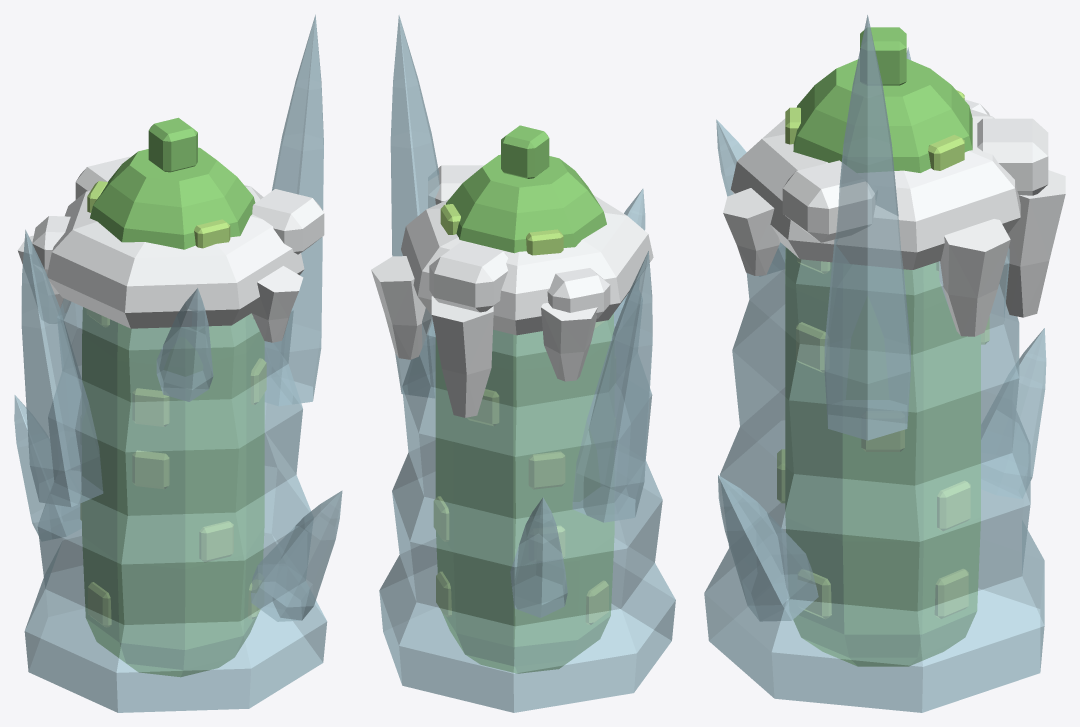
Rendered from SnowFrozenCucumber.fbx.
The picture shows the model from 3 angles, left to right: view 1: azimuth 30°, elevation 25°; view 2: azimuth 150°, elevation 25°; view 3: azimuth 270°, elevation 25°; orthographic projection. The views are drawn at different scales.
Parts seen in each view (by area): view 1: SnowFrozenCucumber.Ice, SnowFrozenCucumber.Body, SnowFrozenCucumber.Snow, SnowFrozenCucumber.Studs; view 2: SnowFrozenCucumber.Ice, SnowFrozenCucumber.Body, SnowFrozenCucumber.Snow, SnowFrozenCucumber.Studs; view 3: SnowFrozenCucumber.Ice, SnowFrozenCucumber.Body, SnowFrozenCucumber.Snow, SnowFrozenCucumber.Studs.
Part boxes in pixels (x1,y1,x2,y2): SnowFrozenCucumber.Ice: (14, 14, 342, 712); SnowFrozenCucumber.Body: (82, 117, 264, 676); SnowFrozenCucumber.Snow: (17, 156, 324, 342); SnowFrozenCucumber.Studs: (80, 181, 266, 627); SnowFrozenCucumber.Ice: (379, 15, 675, 712); SnowFrozenCucumber.Body: (436, 125, 614, 673); SnowFrozenCucumber.Snow: (371, 165, 653, 417); SnowFrozenCucumber.Studs: (434, 204, 608, 624); SnowFrozenCucumber.Ice: (704, 15, 1046, 712); SnowFrozenCucumber.Body: (785, 27, 980, 666); SnowFrozenCucumber.Snow: (723, 99, 1065, 336); SnowFrozenCucumber.Studs: (777, 90, 989, 618).
Bounding box in the file's own units: 2.43 × 4.98 × 2.32.
